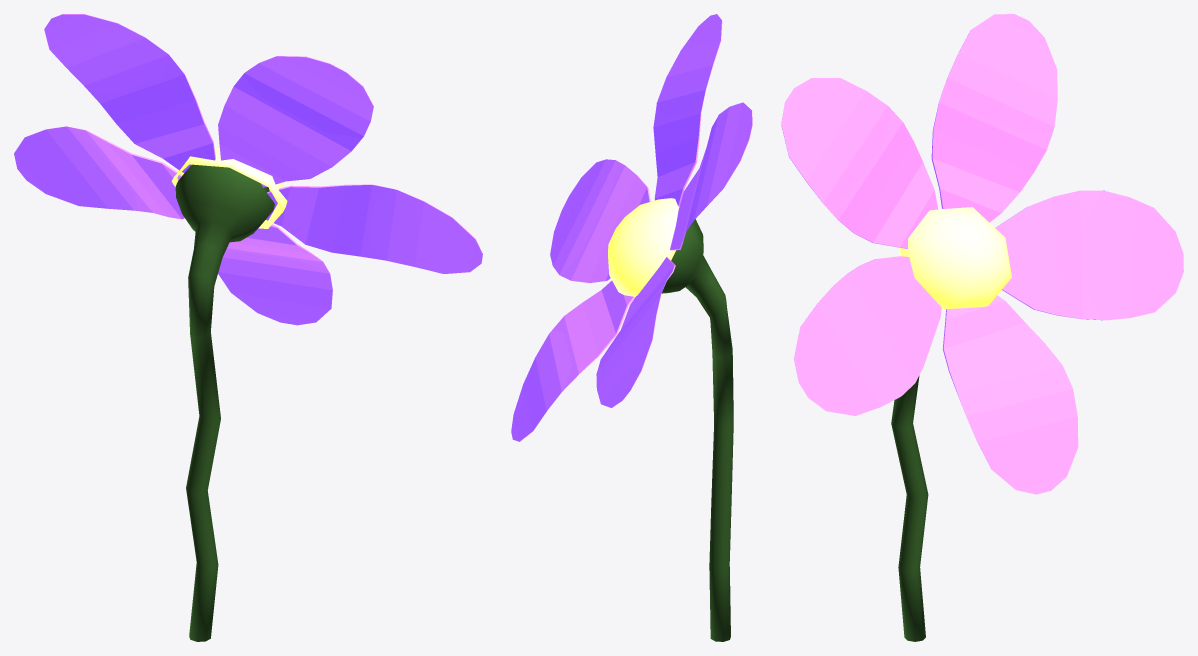
Rendered from flower.gltf.
3 views of the same model, side by side, from view 1: azimuth 30°, elevation 25°; view 2: azimuth 150°, elevation 25°; view 3: azimuth 270°, elevation 25° (orthographic). The views are drawn at different scales.
Visible parts, largest first — view 1: Cube; view 2: Cube; view 3: Cube.
Part boxes in pixels (bbox=[...]): Cube: bbox=[14, 14, 482, 641]; Cube: bbox=[511, 14, 752, 641]; Cube: bbox=[781, 14, 1183, 641].
Size of the model in its own units: 7.17 by 13.29 by 8.25.
